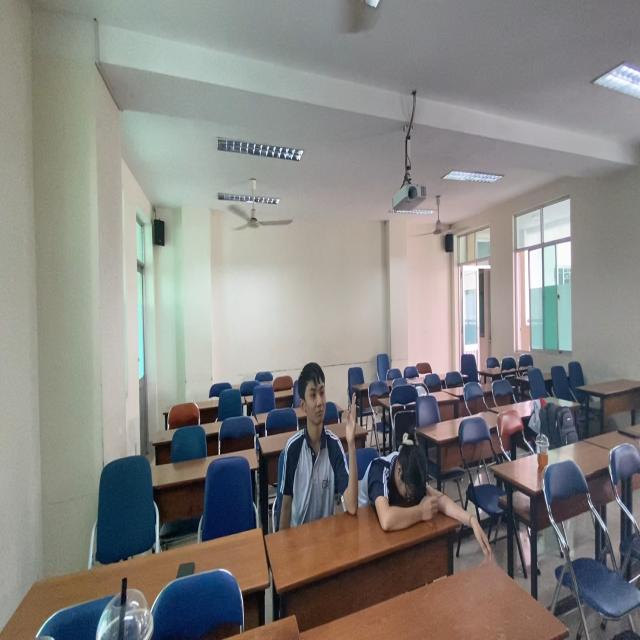raise_hand: (279, 359, 360, 534)
sleep: (360, 430, 468, 536)
